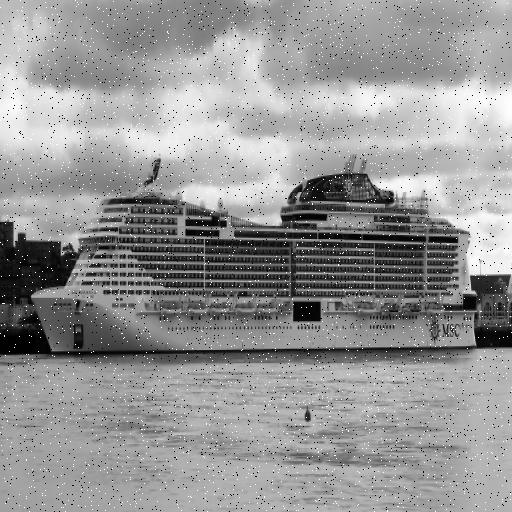cruises: (31, 150, 481, 363)
